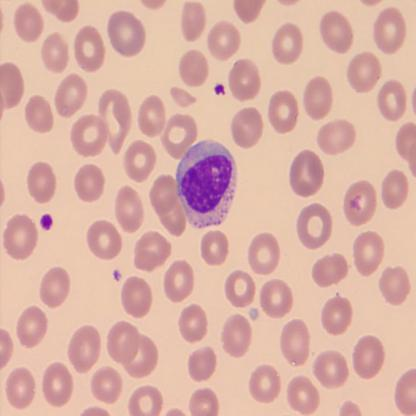Metamyelocyte: (173, 137, 239, 231)
